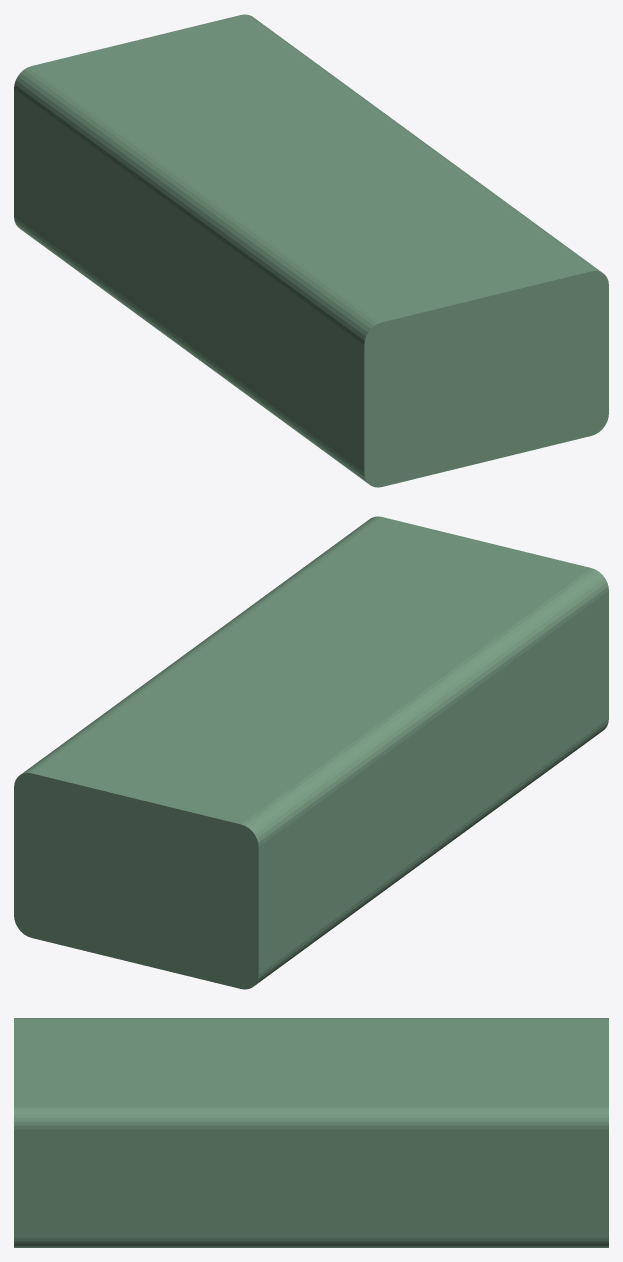
The model's file is peg_48_body.obj.
The picture shows the model from 3 angles, top to bottom: view 1: azimuth 30°, elevation 25°; view 2: azimuth 150°, elevation 25°; view 3: azimuth 270°, elevation 25°; orthographic projection. The views are drawn at different scales.
Visible parts, largest first — view 1: geometry_0; view 2: geometry_0; view 3: geometry_0.
Boxes of the visible parts, x1,y1,x2,y2 form: geometry_0: [14, 14, 608, 487]; geometry_0: [14, 516, 608, 989]; geometry_0: [14, 1018, 608, 1247].
Size of the model in its own units: 0.0403 by 0.0259 by 0.1.
